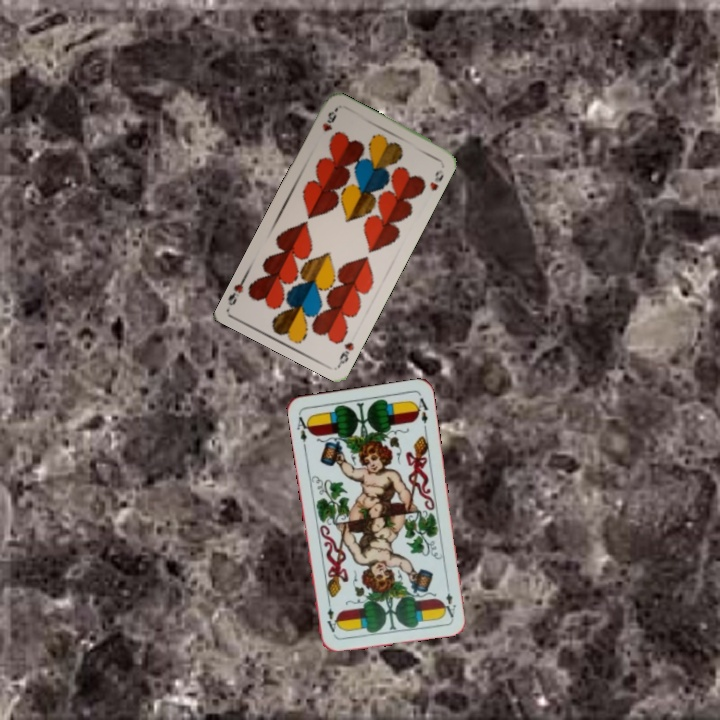EA: (292, 412, 313, 451), (439, 580, 458, 620)
H9: (335, 338, 357, 367), (318, 106, 339, 134)
